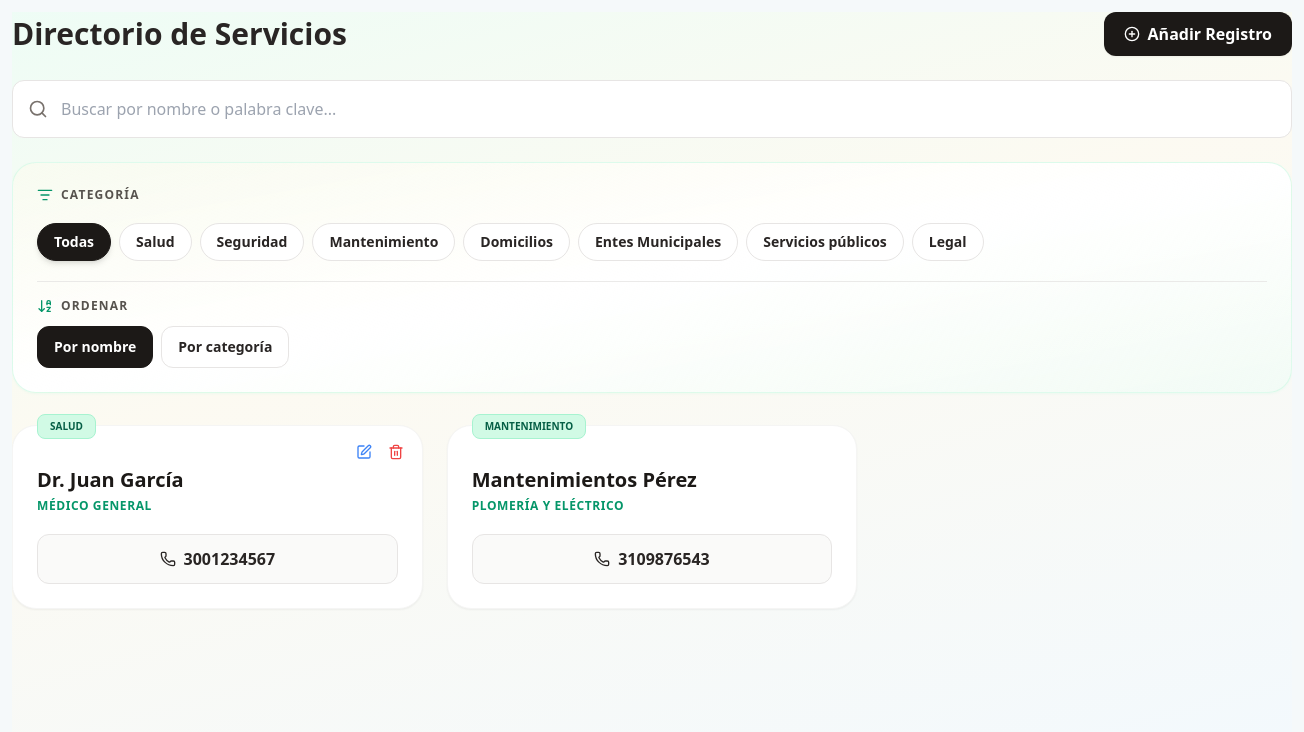
Test: DirectoriesView — búsqueda › muestra mensaje de "sin resultados" si la búsqueda no coincide
Type "zzz-inexistente" into the field with placeholder "Buscar por nombre o palabra clave...". click: (652, 109)
box: x1=12 y1=80 x2=1292 y2=138
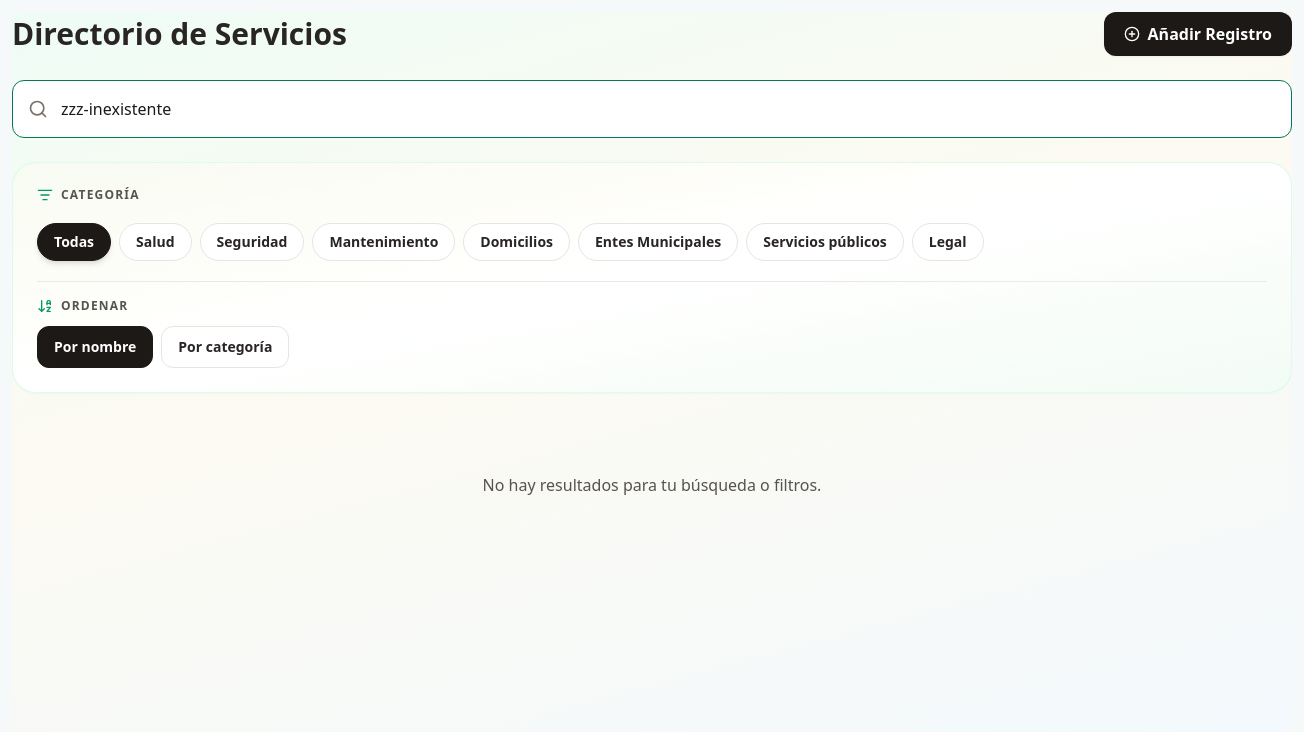
Now the text "No hay resultados para tu búsqueda o filtros." is shown, box x1=483 y1=474 x2=821 y2=496
